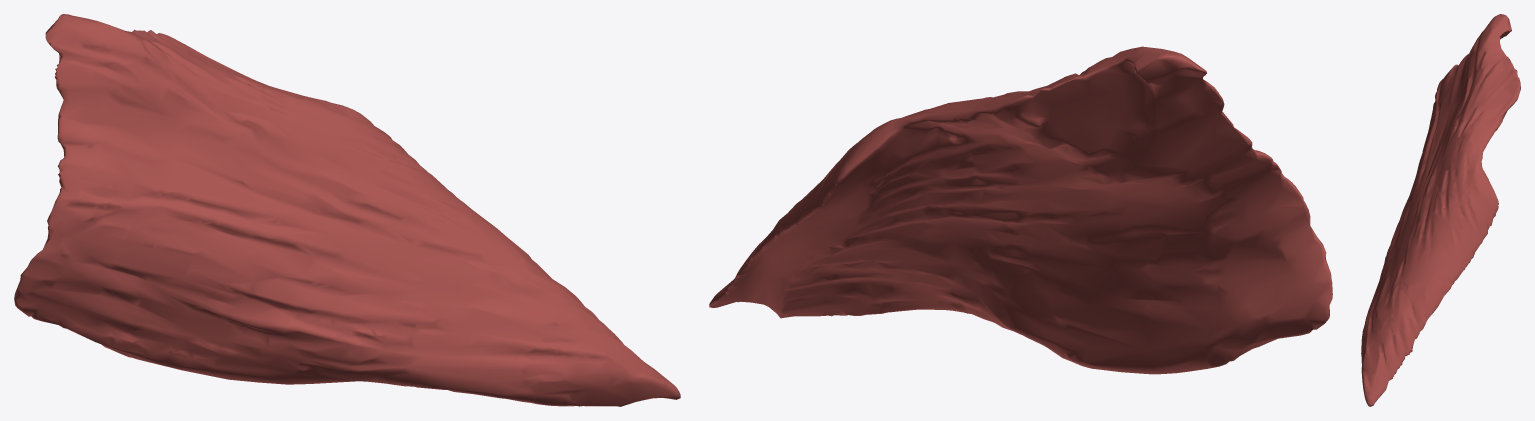
Rendered from FMA37391.glb.
3 renders of one model, left to right at view 1: azimuth 30°, elevation 25°; view 2: azimuth 150°, elevation 25°; view 3: azimuth 270°, elevation 25°, orthographic. The views are drawn at different scales.
Parts seen in each view (by area): view 1: FMA37391; view 2: FMA37391; view 3: FMA37391.
Boxes of the visible parts, x1,y1,x2,y2 form: FMA37391: [14, 14, 680, 406]; FMA37391: [709, 46, 1332, 374]; FMA37391: [1361, 14, 1520, 406].
Bounding box in the file's own units: 0.0477 × 0.0321 × 0.0188.
